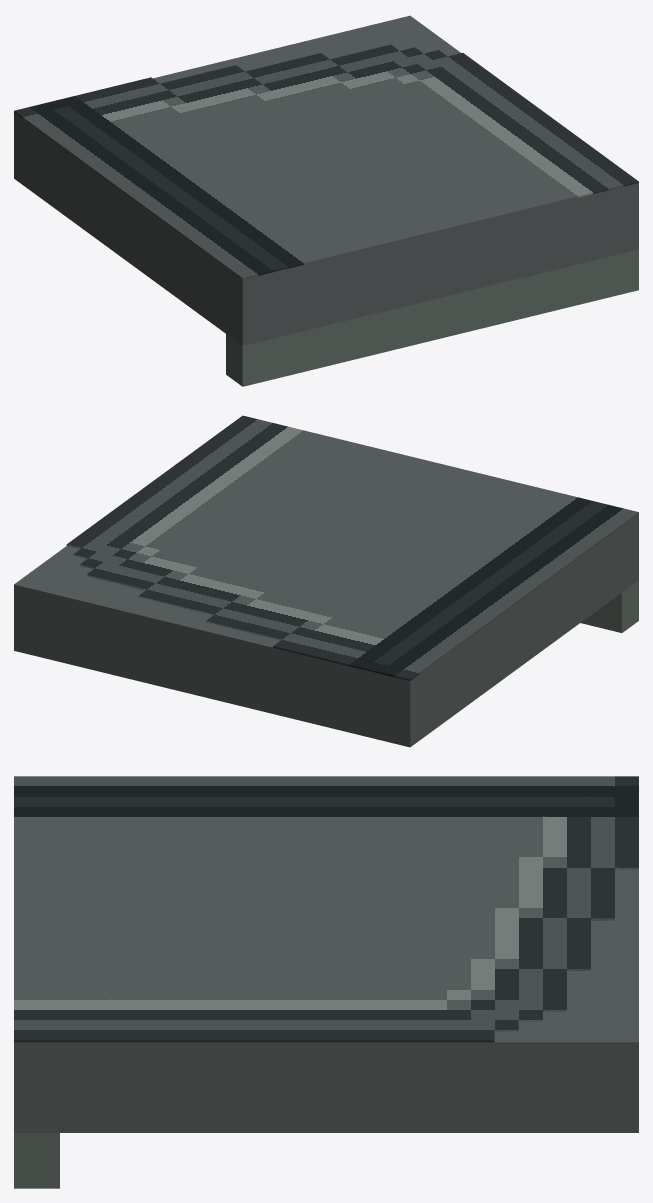
The model's file is CMU3DInteriorVehicleAPCExterior3.glb.
3 renders of one model, top to bottom at view 1: azimuth 30°, elevation 25°; view 2: azimuth 150°, elevation 25°; view 3: azimuth 270°, elevation 25°, orthographic. The views are drawn at different scales.
Visible parts, largest first — view 1: overhead armor source finish, overhead armor, inner roof rib; view 2: overhead armor source finish, overhead armor, inner roof rib; view 3: overhead armor source finish, overhead armor, inner roof rib.
Boxes of the visible parts, left/top/right/bottom form: overhead armor source finish: left=14, top=44, right=638, bottom=279; overhead armor: left=14, top=15, right=638, bottom=345; inner roof rib: left=226, top=249, right=638, bottom=386; overhead armor source finish: left=66, top=415, right=638, bottom=680; overhead armor: left=14, top=514, right=638, bottom=747; inner roof rib: left=581, top=580, right=638, bottom=632; overhead armor source finish: left=14, top=776, right=638, bottom=1042; overhead armor: left=14, top=867, right=638, bottom=1132; inner roof rib: left=14, top=1133, right=59, bottom=1188.
Bounding box in the file's own units: 0.8125 × 0.213 × 0.8125.
3 materials, 1 textured.
